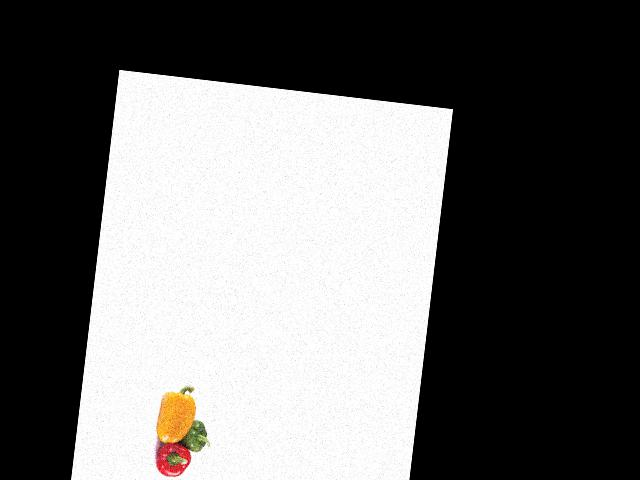bell_pepper: (176, 415, 213, 456)
